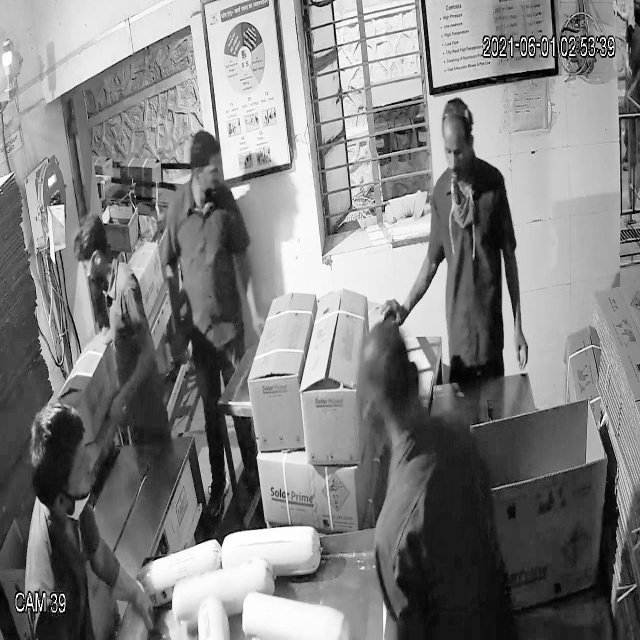Sin_gafas: (440, 133, 475, 167)
